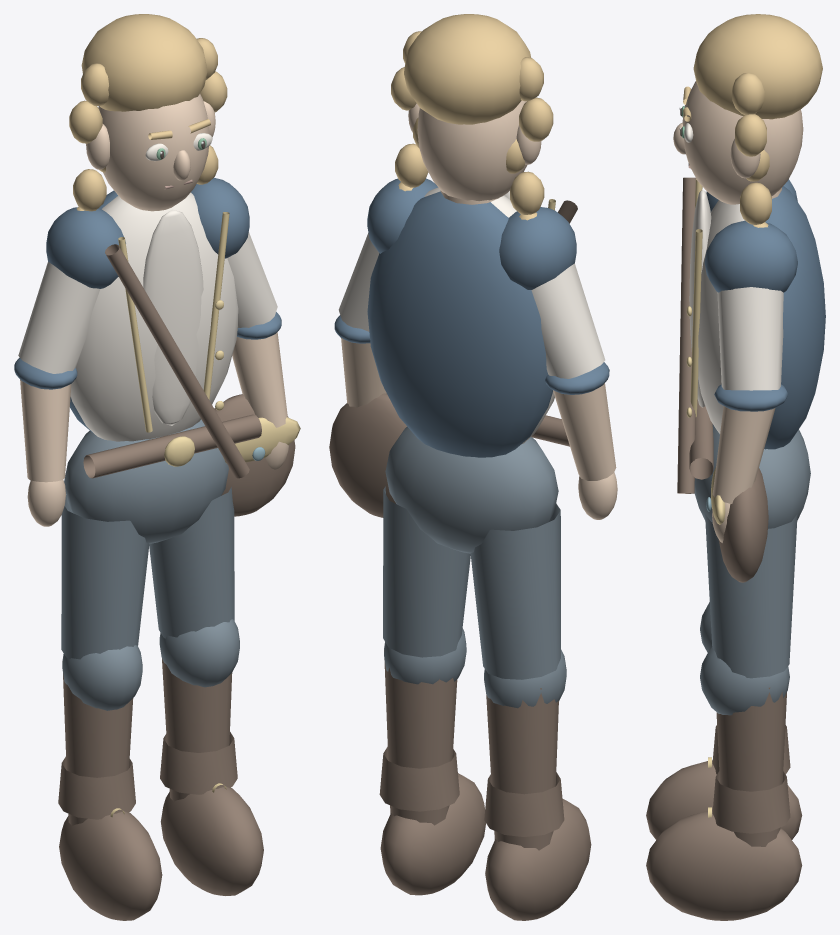
File: Ionia.glb
3 views of the same model, side by side, from view 1: azimuth 30°, elevation 25°; view 2: azimuth 150°, elevation 25°; view 3: azimuth 270°, elevation 25° (orthographic). The views are drawn at different scales.
Visible parts, largest first — view 1: Ionia_lookdev; view 2: Ionia_lookdev; view 3: Ionia_lookdev.
Part boxes in pixels (x1,y1,x2,y2): Ionia_lookdev: (14,14,300,920); Ionia_lookdev: (329,14,617,920); Ionia_lookdev: (646,14,825,920).
Bounding box in the file's own units: 0.5441 × 1.67 × 0.311.
